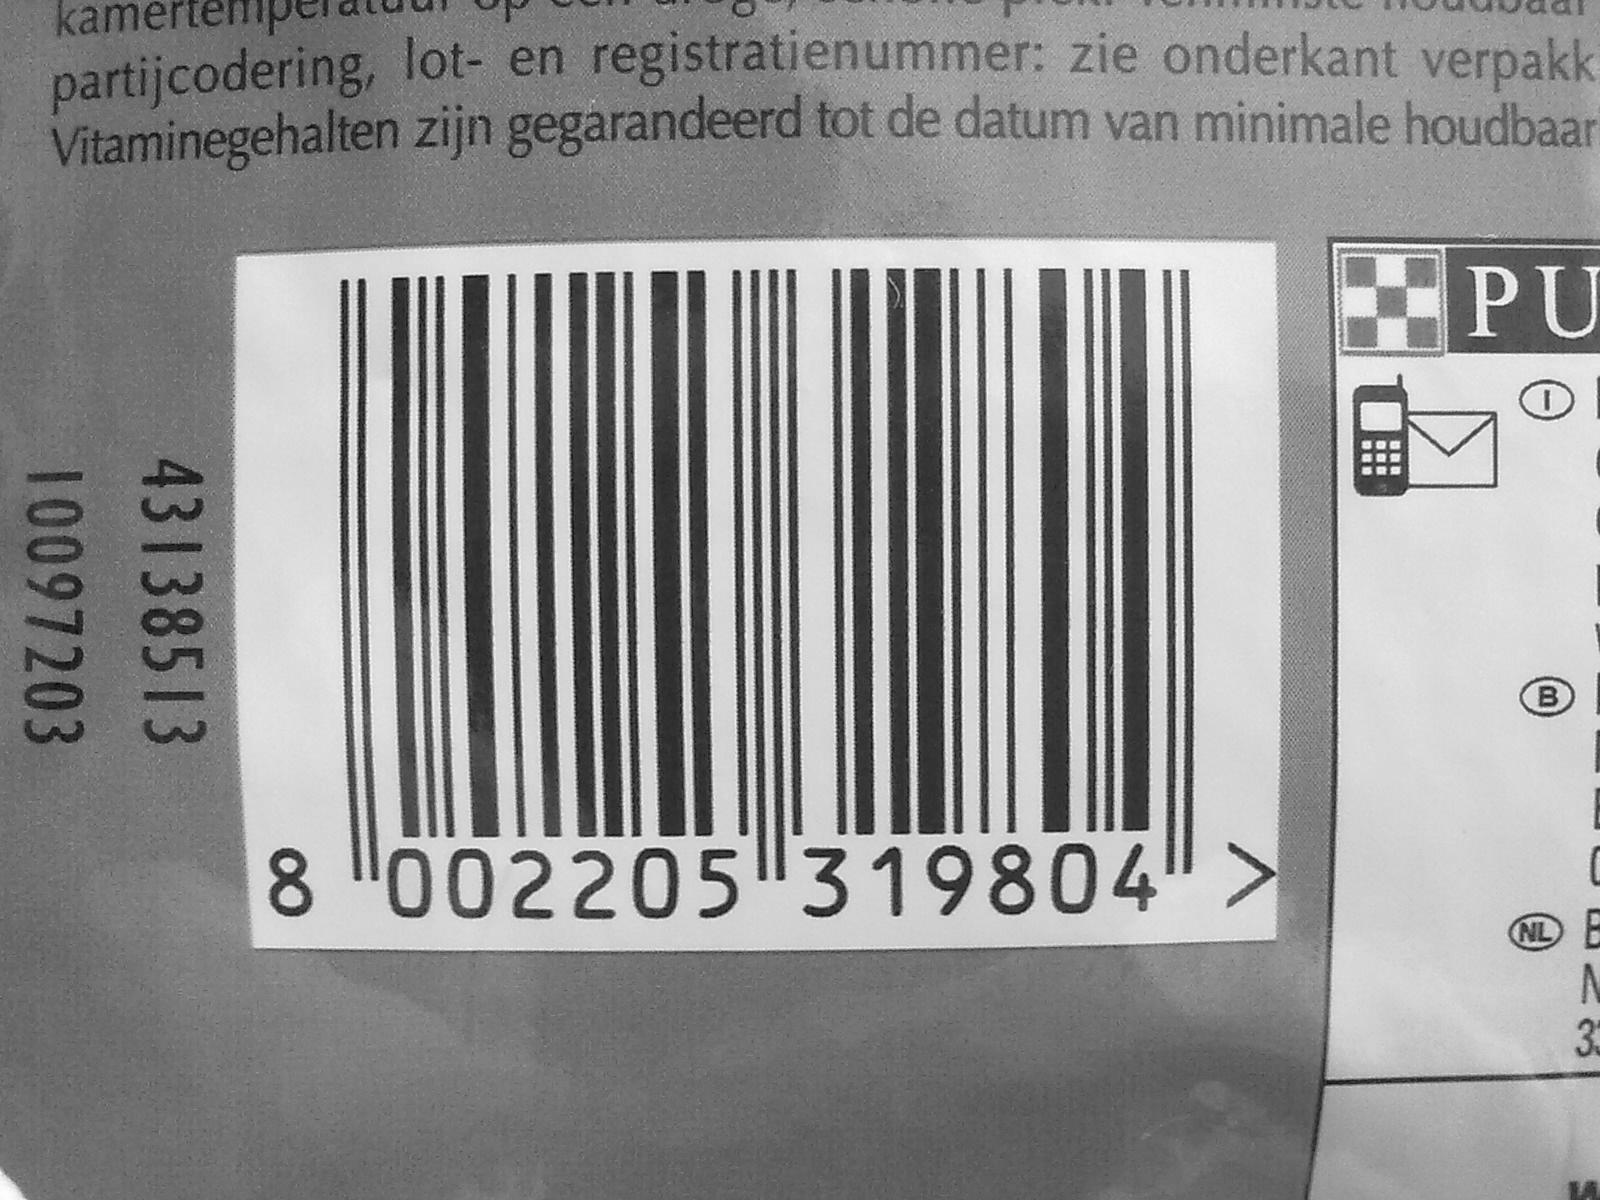Barcode: (291, 222, 1233, 881)
